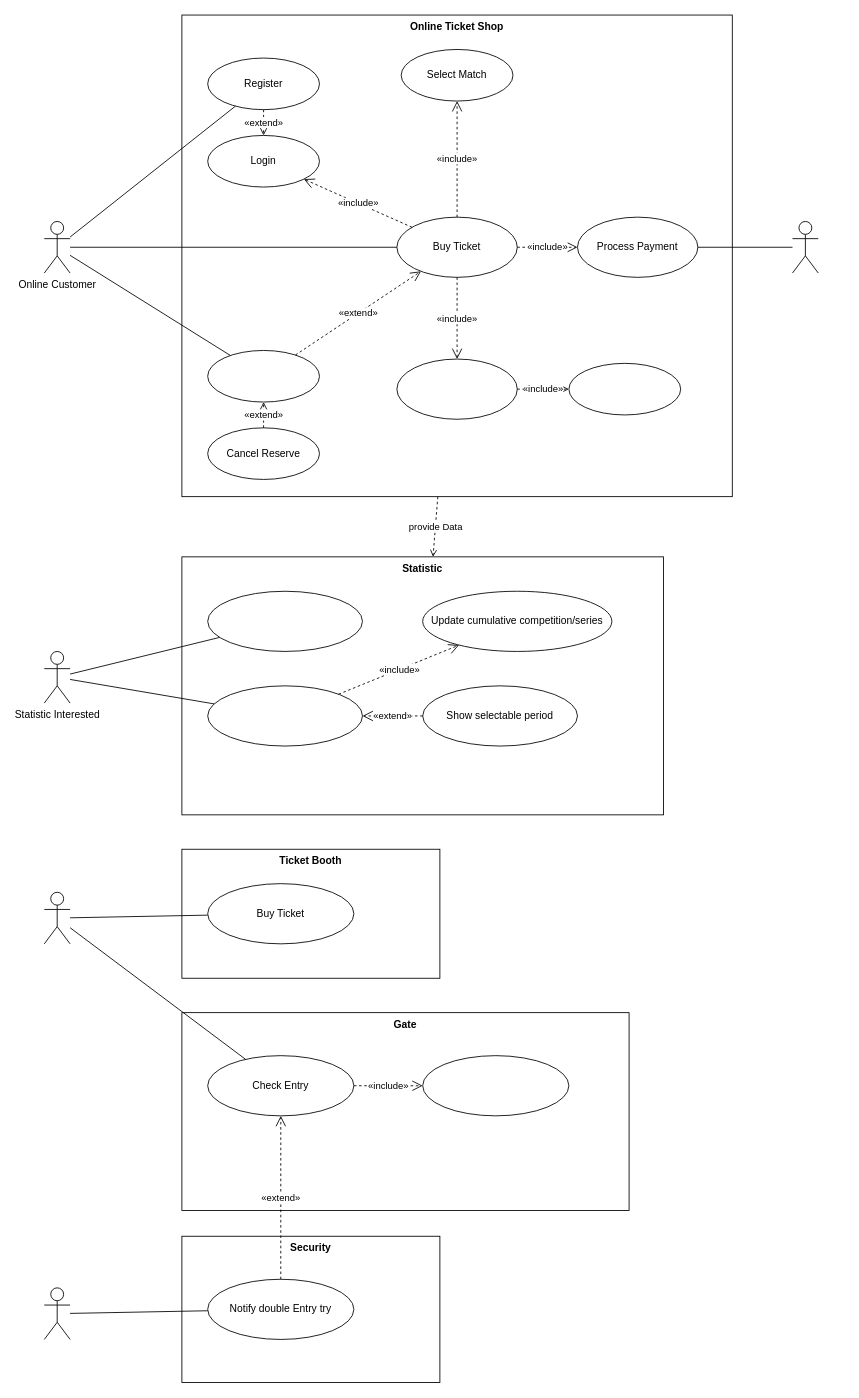
This 859x1398 diagram has some shape labels left out. The centre of each missing label's shape, as x and y in pixels:
Choose Sector and Seat: (456,388)
Live Customer: (56,917)
Payment Service: (805,247)
Register Leave: (495,1085)
Reserve: (263,376)
Show available Seating: (624,388)
Show real-time status of matches: (284,620)
Show ticket stats: (284,715)
Staff: (56,1313)
